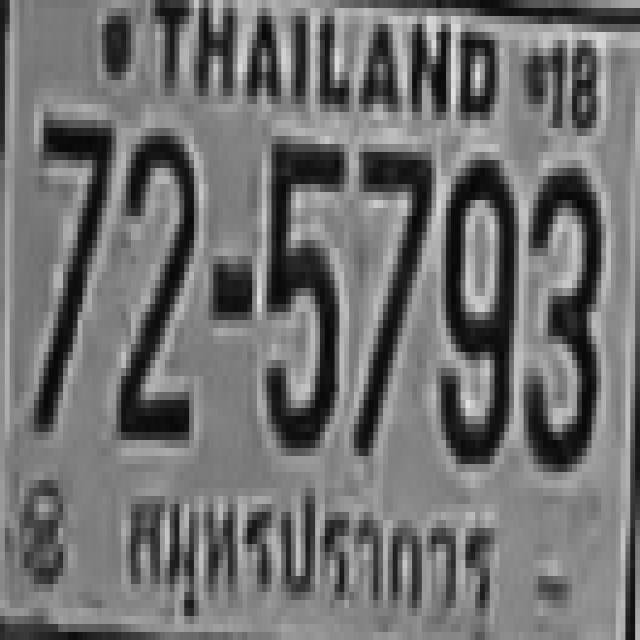2: (116, 124, 194, 436)
3: (519, 160, 596, 464)
5: (262, 136, 339, 448)
7: (34, 112, 111, 432), (352, 144, 429, 448)
9: (436, 152, 514, 456)
SamutPrakan: (102, 464, 504, 640)
